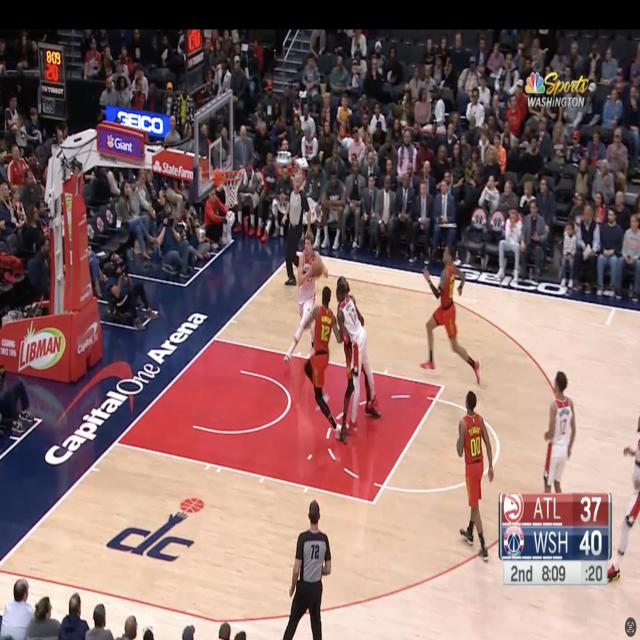foul: (329, 257, 395, 453)
no foul: (286, 233, 330, 439)
